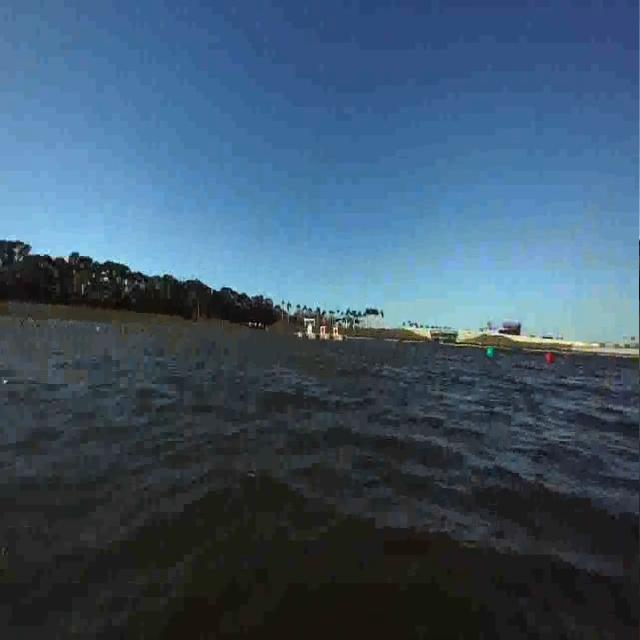green-buoy: (487, 346, 496, 360)
red-buoy: (545, 352, 553, 365)
